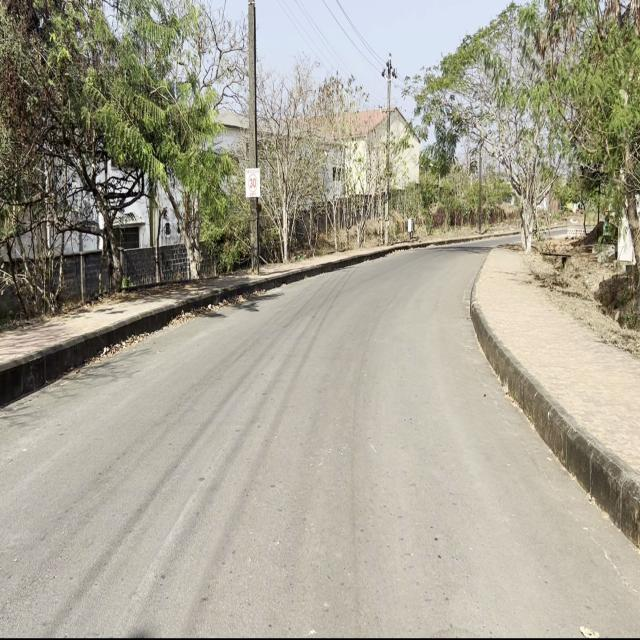Road: (4, 243, 638, 632)
